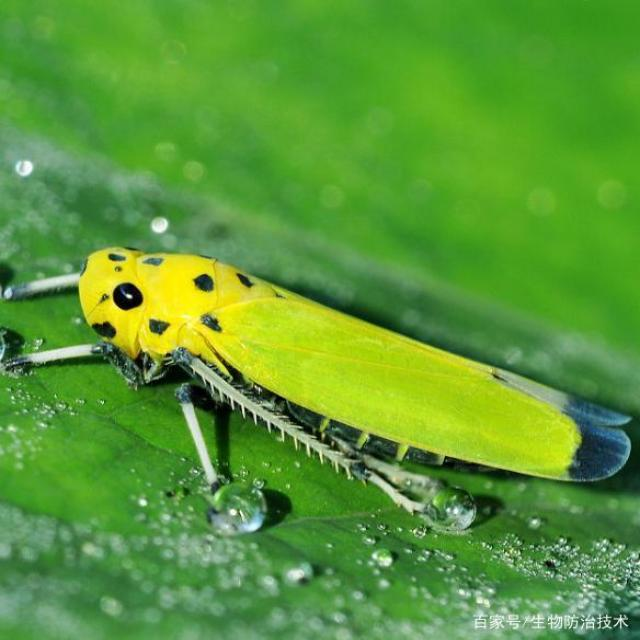Yechan: (34, 232, 637, 536)
